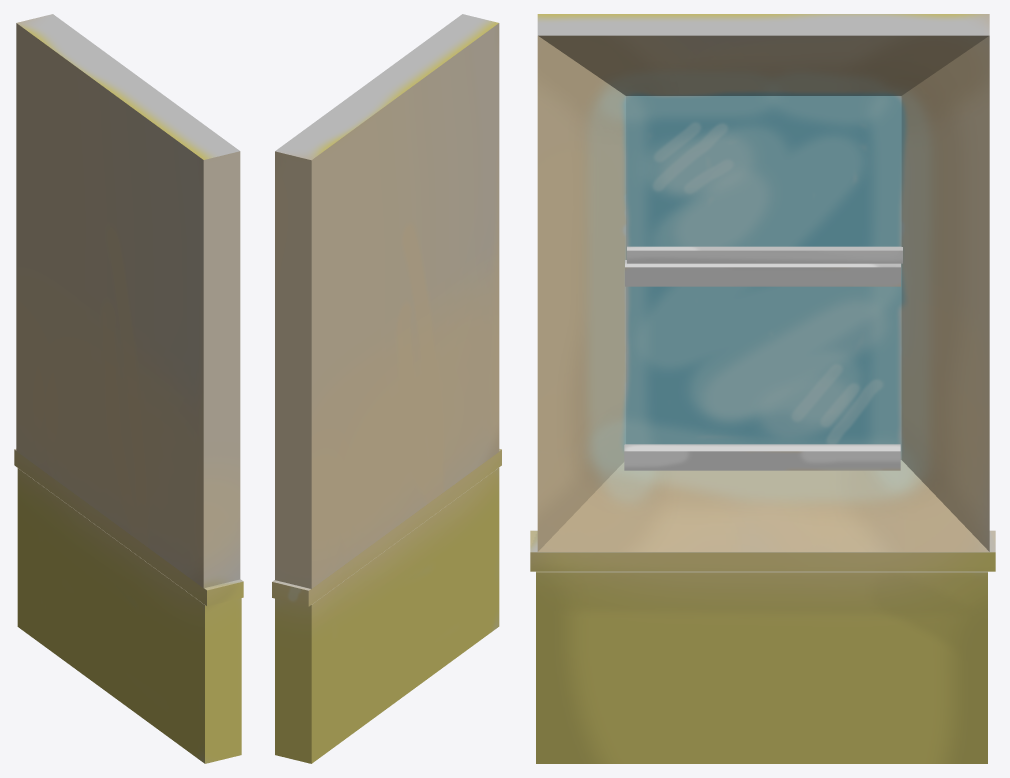
Rendered from parede mansao com janela.fbx.
3 renders of one model, left to right at view 1: azimuth 30°, elevation 25°; view 2: azimuth 150°, elevation 25°; view 3: azimuth 270°, elevation 25°, orthographic. The views are drawn at different scales.
Visible parts, largest first — view 1: Cube; view 2: Cube; view 3: Cube.
Part boxes in pixels (x1,y1,x2,y2): Cube: [14, 14, 243, 763]; Cube: [272, 14, 501, 763]; Cube: [530, 14, 995, 763].
Bounding box in the file's own units: 80.7 × 1247 × 722.
